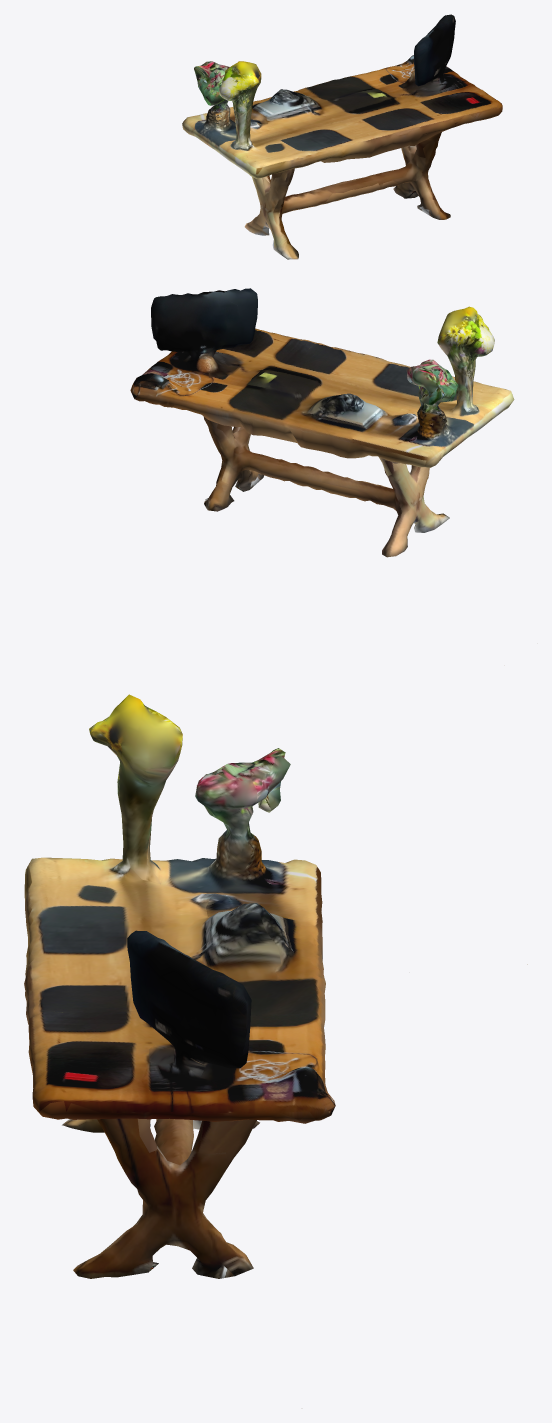
Rendered from Table.obj.
3 renders of one model, top to bottom at view 1: azimuth 30°, elevation 25°; view 2: azimuth 150°, elevation 25°; view 3: azimuth 270°, elevation 25°, orthographic. The views are drawn at different scales.
Parts seen in each view (by area): view 1: Table; view 2: Table; view 3: Table.
Boxes of the visible parts, x1,y1,x2,y2 form: Table: (182, 14, 502, 259); Table: (130, 288, 514, 557); Table: (24, 694, 527, 1278).
Size of the model in its own units: 8.49 by 3.46 by 3.96.
